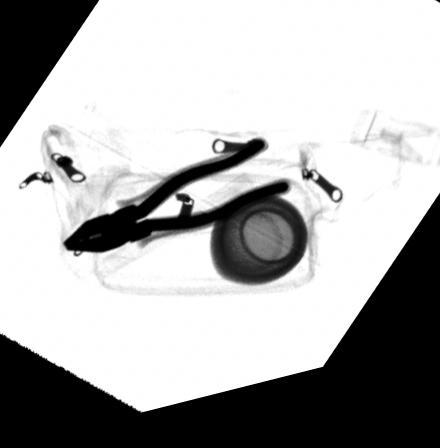Pliers: (61, 150, 292, 259)
